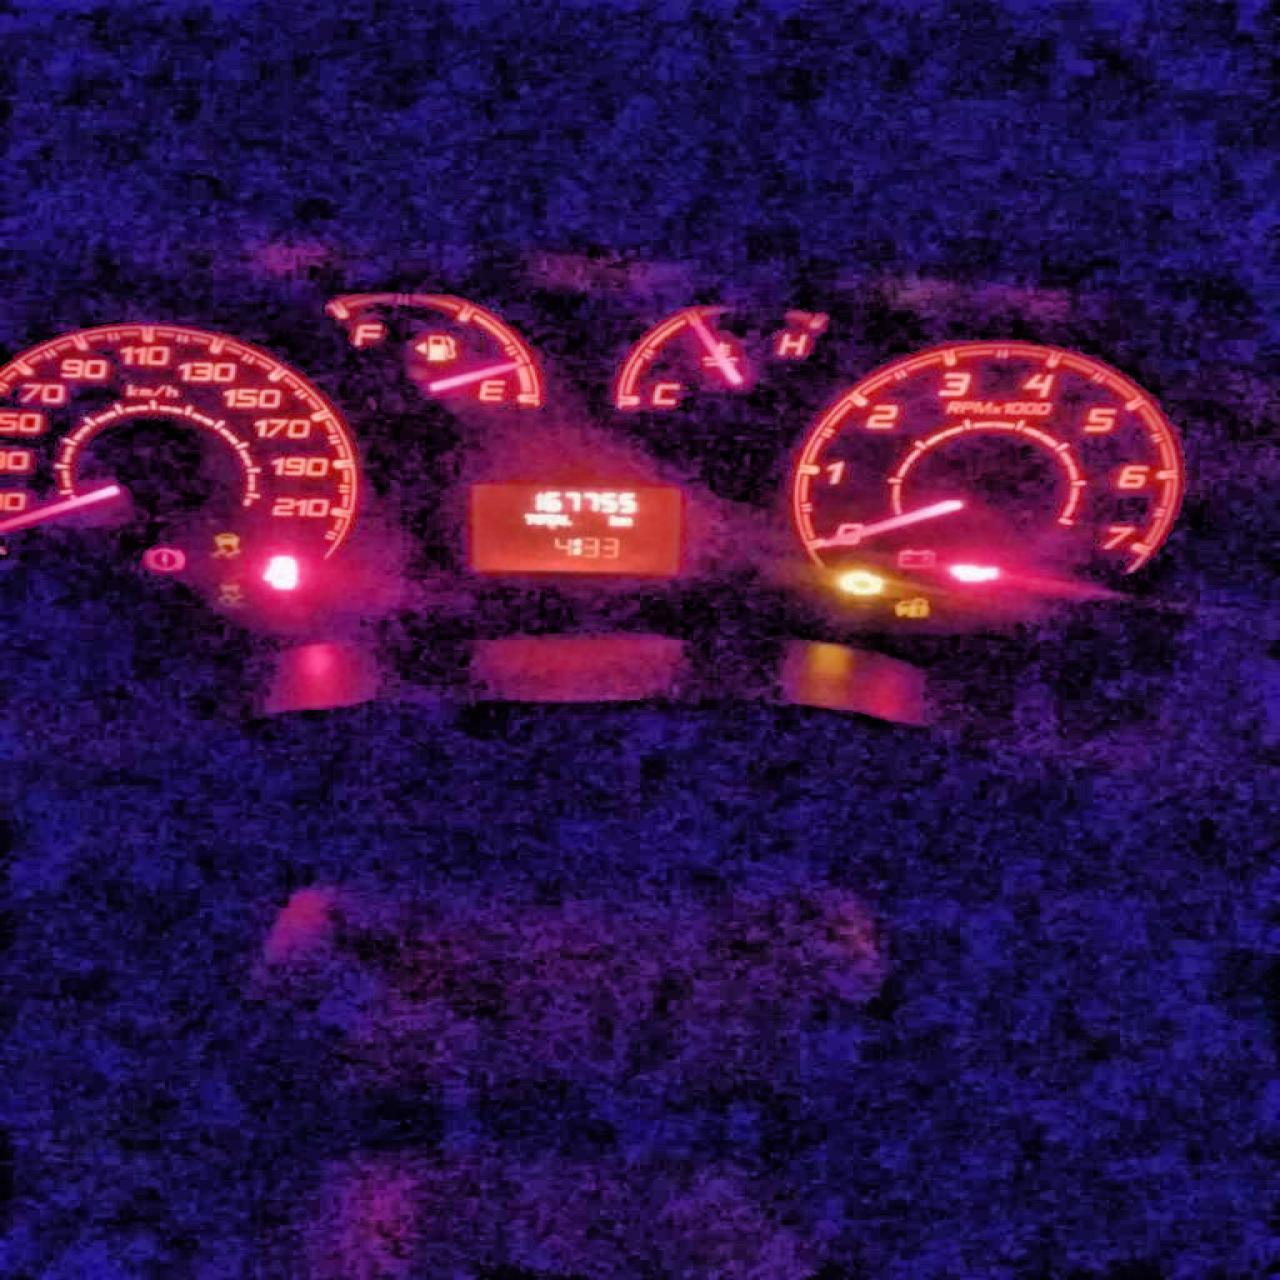1: (529, 489, 542, 511)
3: (599, 535, 619, 559), (581, 535, 598, 557)
4: (550, 535, 572, 554)
5: (599, 490, 619, 515), (619, 490, 639, 515)
6: (542, 489, 564, 512)
7: (564, 488, 584, 512), (584, 488, 599, 513)
X: (522, 511, 536, 525), (543, 512, 554, 529), (572, 536, 581, 556), (619, 515, 633, 526), (608, 513, 619, 526), (561, 513, 570, 526), (535, 515, 543, 525), (556, 513, 561, 527)
odometer: (458, 477, 687, 578)
